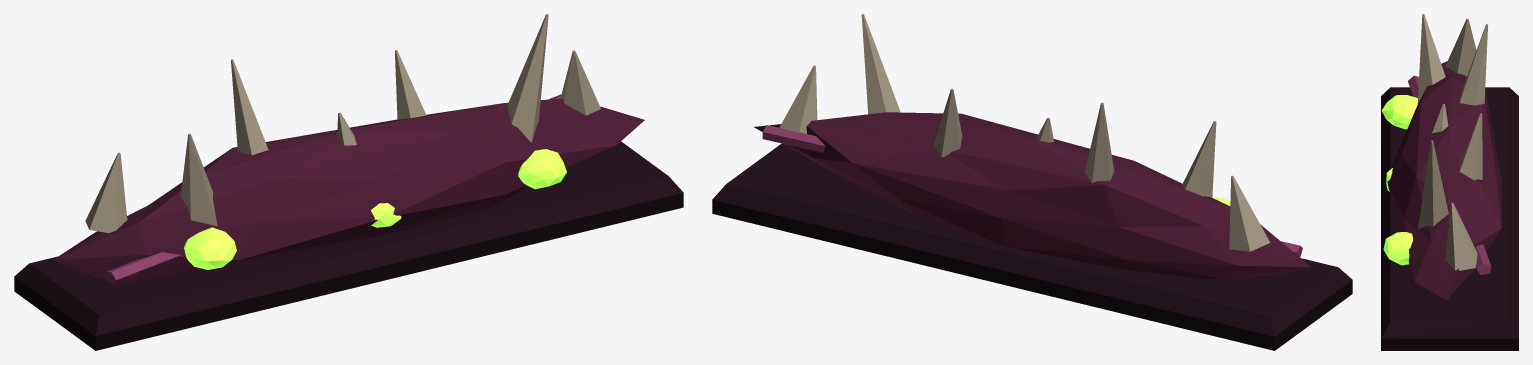
File: creep-spine-ridge.glb
3 views of the same model, side by side, from view 1: azimuth 30°, elevation 25°; view 2: azimuth 150°, elevation 25°; view 3: azimuth 270°, elevation 25° (orthographic). The views are drawn at different scales.
Size of the model in its own units: 5 by 1.6 by 1.2.
